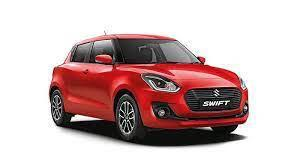Hatchback: (47, 32, 252, 143)
